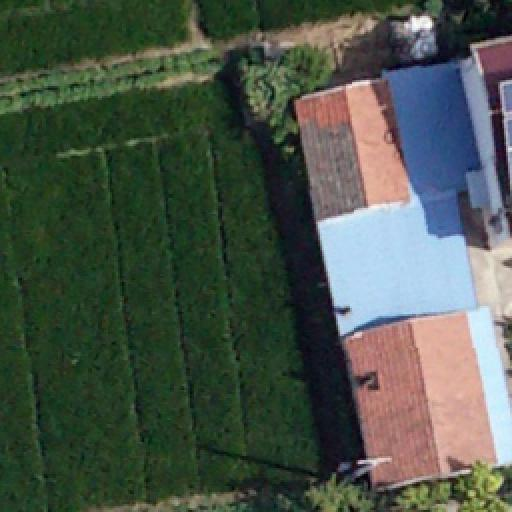solar-panel: (500, 80, 512, 192)
